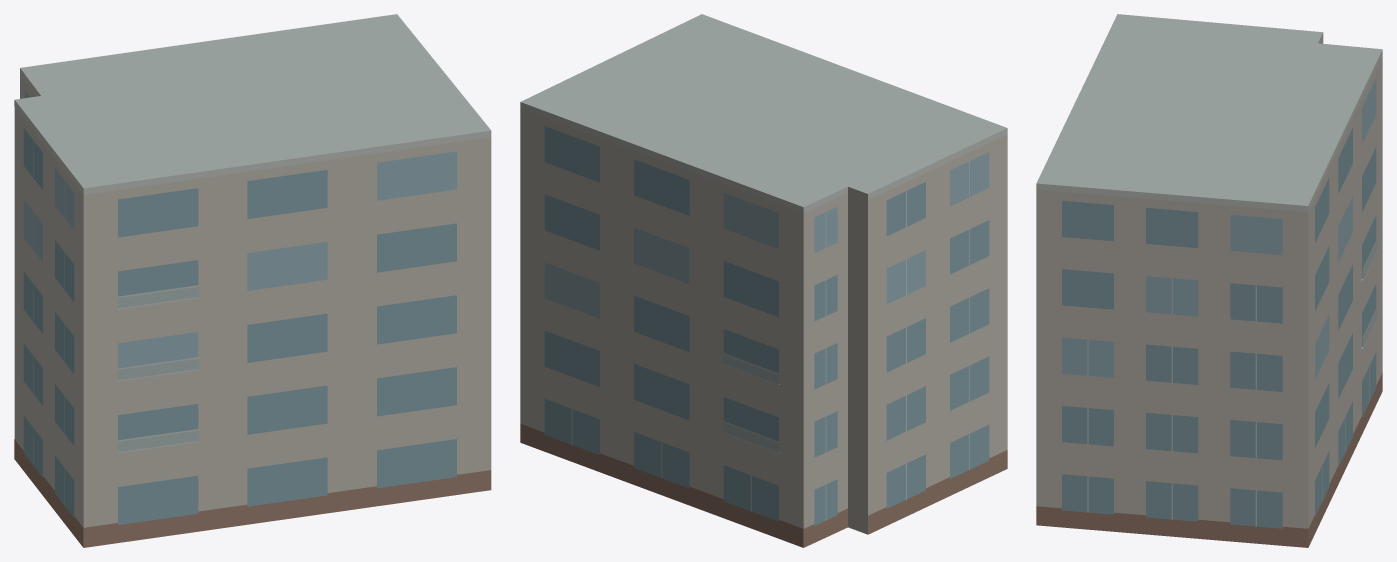
File: survey-upis-32705789.glb
3 renders of one model, left to right at view 1: azimuth 30°, elevation 25°; view 2: azimuth 150°, elevation 25°; view 3: azimuth 270°, elevation 25°, orthographic. The views are drawn at different scales.
Visible parts, largest first — view 1: survey-upis-32705789.tmp; view 2: survey-upis-32705789.tmp; view 3: survey-upis-32705789.tmp.
Part boxes in pixels (left/top/right/bottom): survey-upis-32705789.tmp: left=14, top=14, right=491, bottom=547; survey-upis-32705789.tmp: left=520, top=14, right=1007, bottom=547; survey-upis-32705789.tmp: left=1036, top=14, right=1382, bottom=547.
Bounding box in the file's own units: 16.22 × 13.45 × 12.36.
